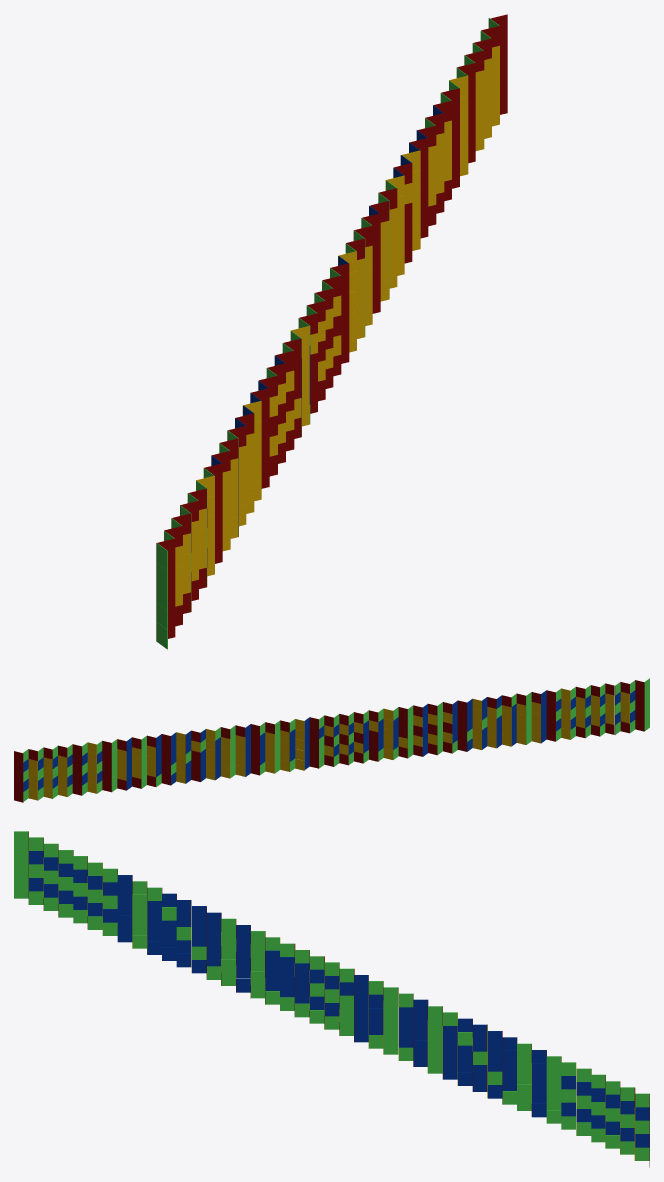
The model's file is creationEngine.dae.
3 renders of one model, top to bottom at view 1: azimuth 30°, elevation 25°; view 2: azimuth 150°, elevation 25°; view 3: azimuth 270°, elevation 25°, orthographic. The views are drawn at different scales.
Bounding box in the file's own units: 21.47 × 2.54 × 21.51.
